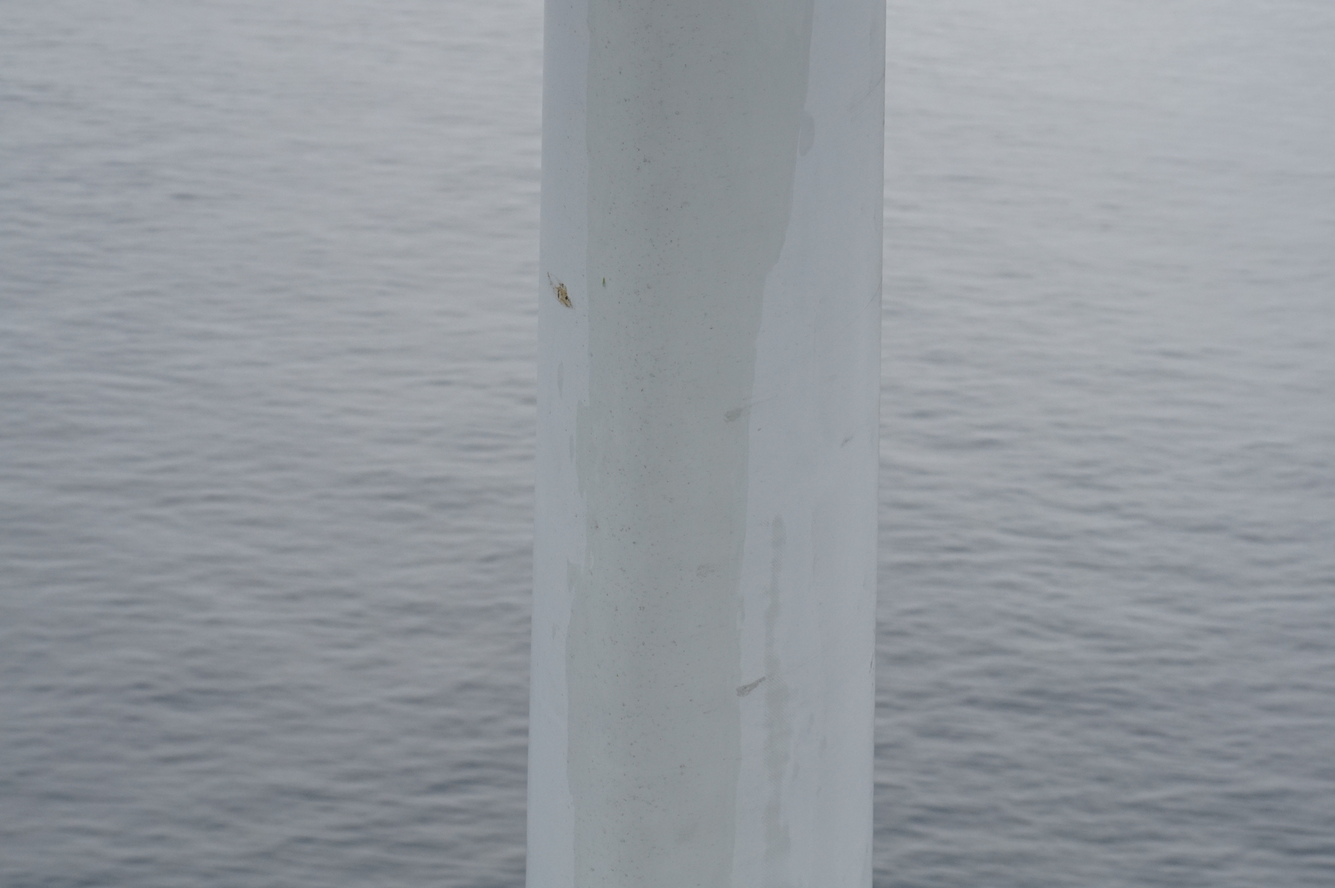Dirt: (554, 281, 574, 310)
